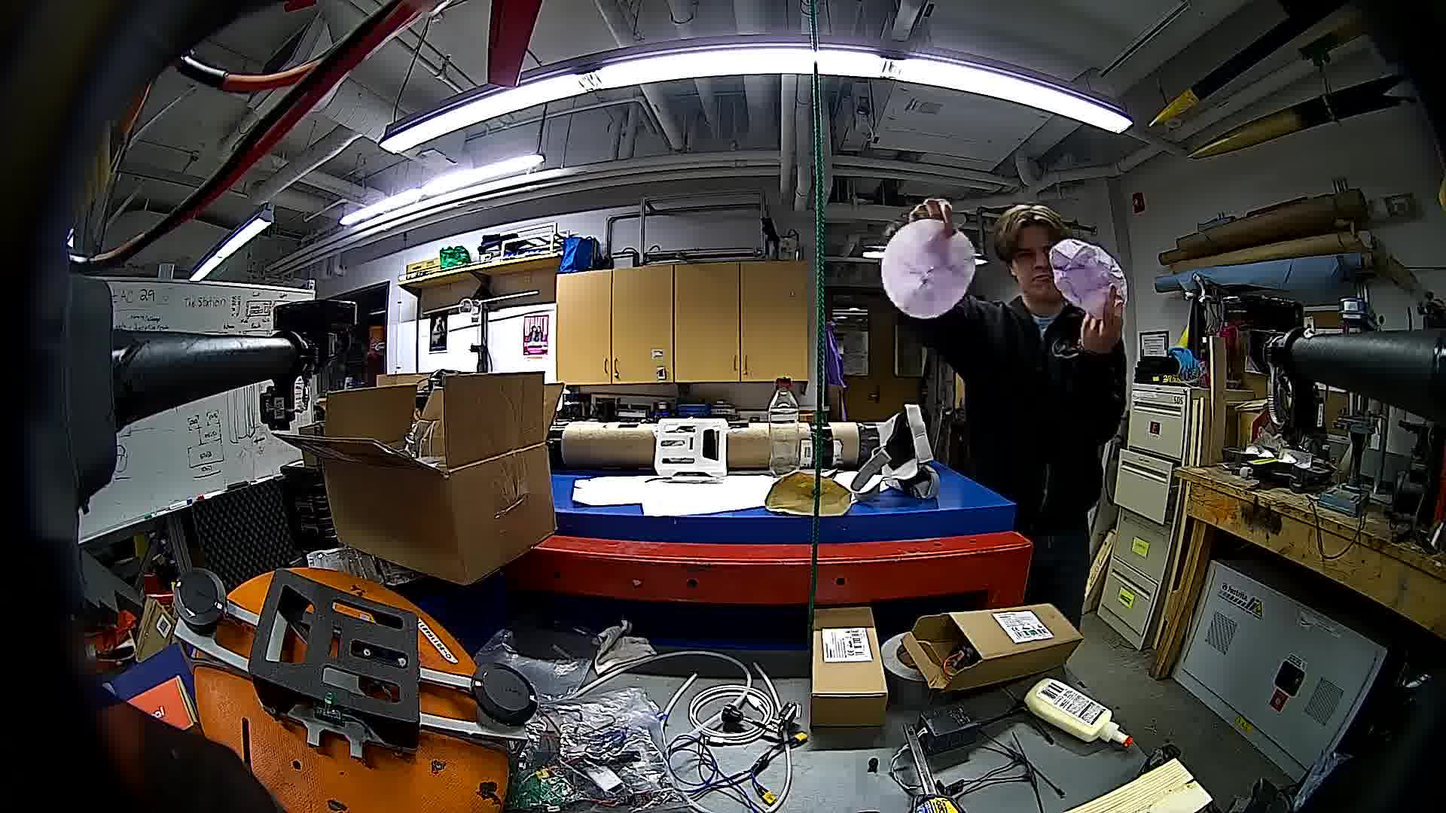Target: (880, 212, 980, 321)
